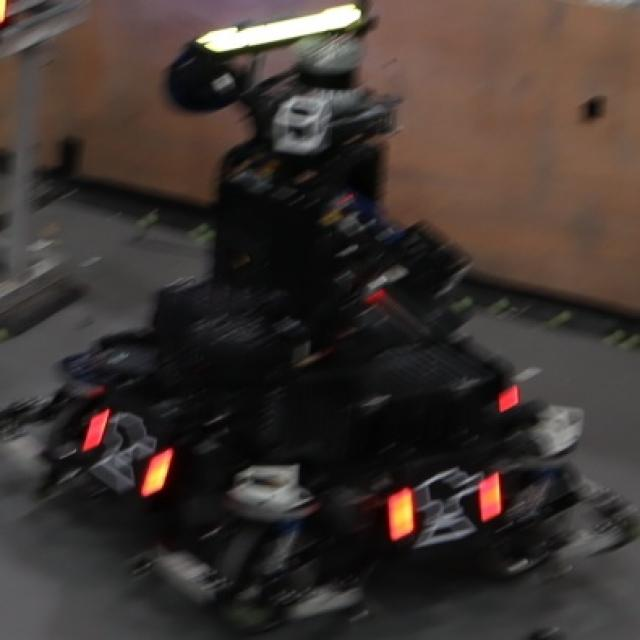Rs: (384, 456, 502, 550), (84, 405, 169, 502)
